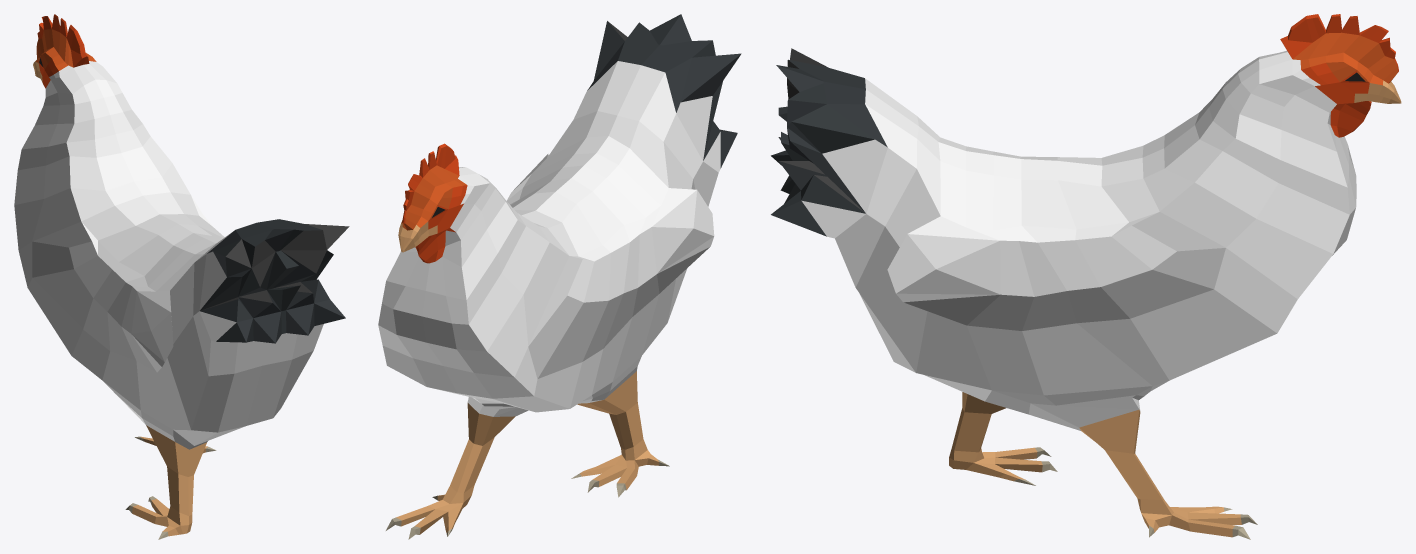
File: chicken.fbx
3 renders of one model, left to right at view 1: azimuth 30°, elevation 25°; view 2: azimuth 150°, elevation 25°; view 3: azimuth 270°, elevation 25°, orthographic. The views are drawn at different scales.
Visible parts, largest first — view 1: Vert; view 2: Vert; view 3: Vert.
Boxes of the visible parts, box(x1,y1,x2,y2) form: Vert: box(14, 14, 349, 539); Vert: box(378, 14, 741, 539); Vert: box(771, 14, 1401, 539).
Bounding box in the file's own units: 21.19 × 50.14 × 59.74.
Materials: 1 (1 with a texture image).
